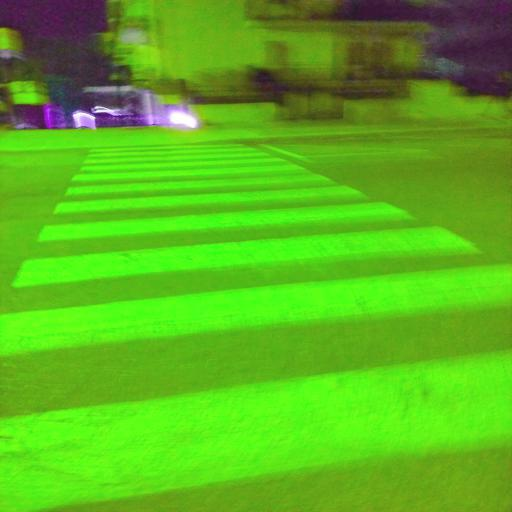crosswalk: (22, 182, 438, 248)
